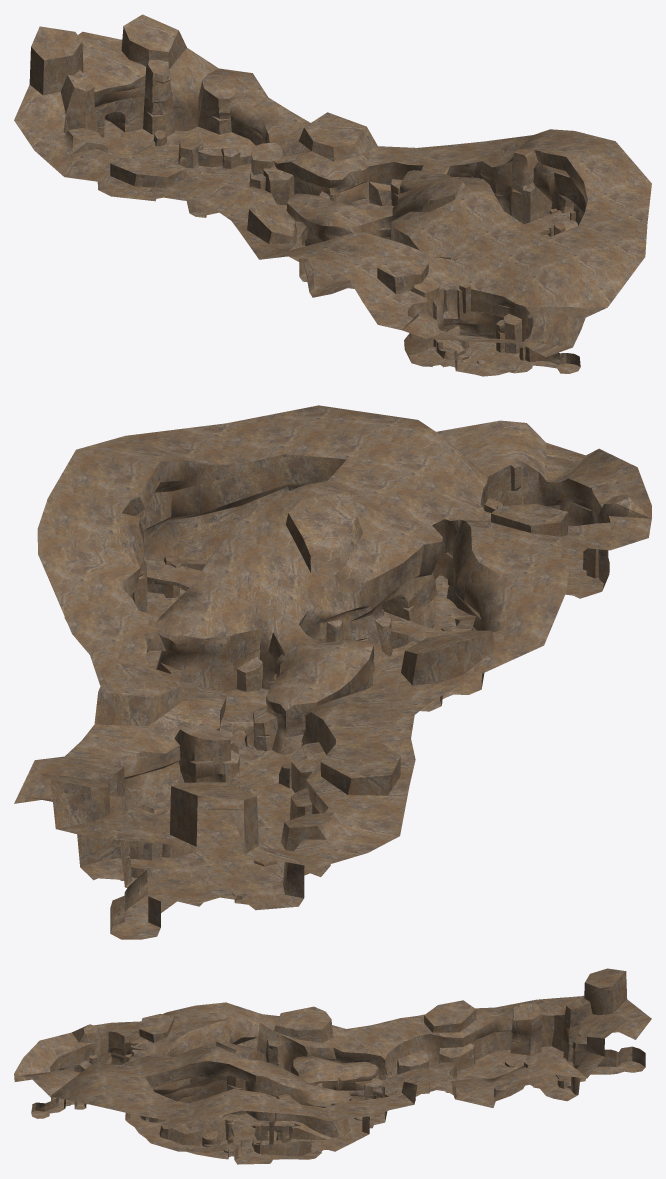
The model's file is level_blockout.glb.
3 renders of one model, top to bottom at view 1: azimuth 30°, elevation 25°; view 2: azimuth 150°, elevation 25°; view 3: azimuth 270°, elevation 25°, orthographic. The views are drawn at different scales.
Parts seen in each view (by area): view 1: terrain1; view 2: terrain1; view 3: terrain1.
Part boxes in pixels (bbox=[...]): terrain1: bbox=[14, 14, 651, 376]; terrain1: bbox=[14, 405, 651, 939]; terrain1: bbox=[14, 968, 651, 1164].
Size of the model in its own units: 72.35 by 18.81 by 129.
Materials: 1 (1 with a texture image).
